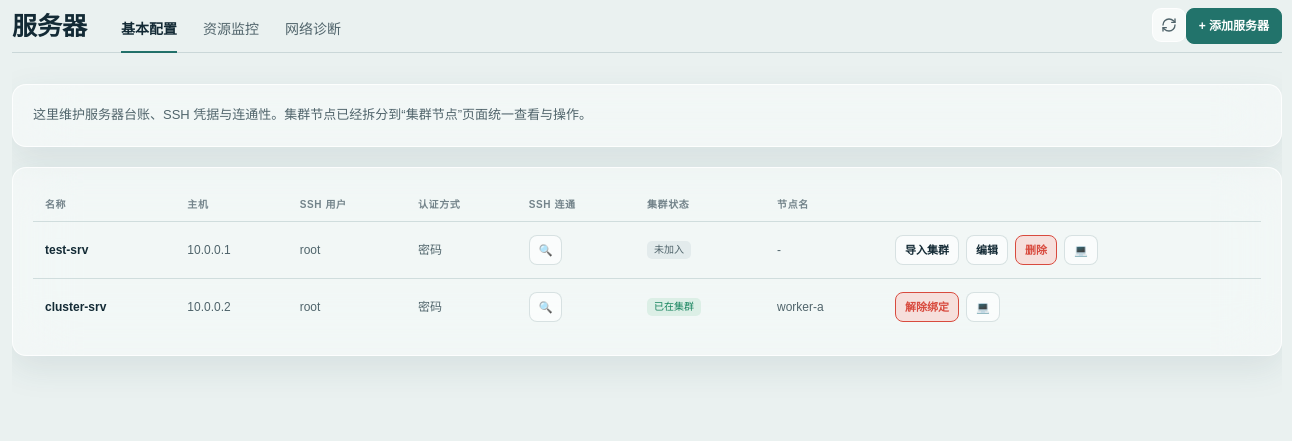
Servers view › retains loaded servers and exposes a refresh error after a failed reload
Click the button titled "刷新服务器列表" at [1169, 25], box [1152, 8, 1186, 42]
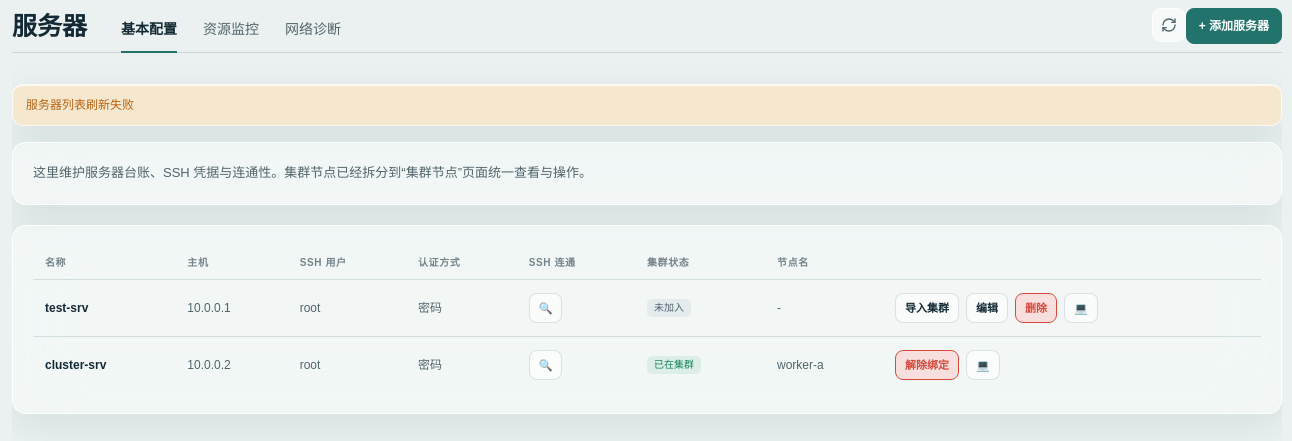
Check: the text "test-srv" is shown, box [33, 279, 175, 336]
Check: the text "服务器列表刷新失败" is shown, box [12, 84, 1282, 126]
